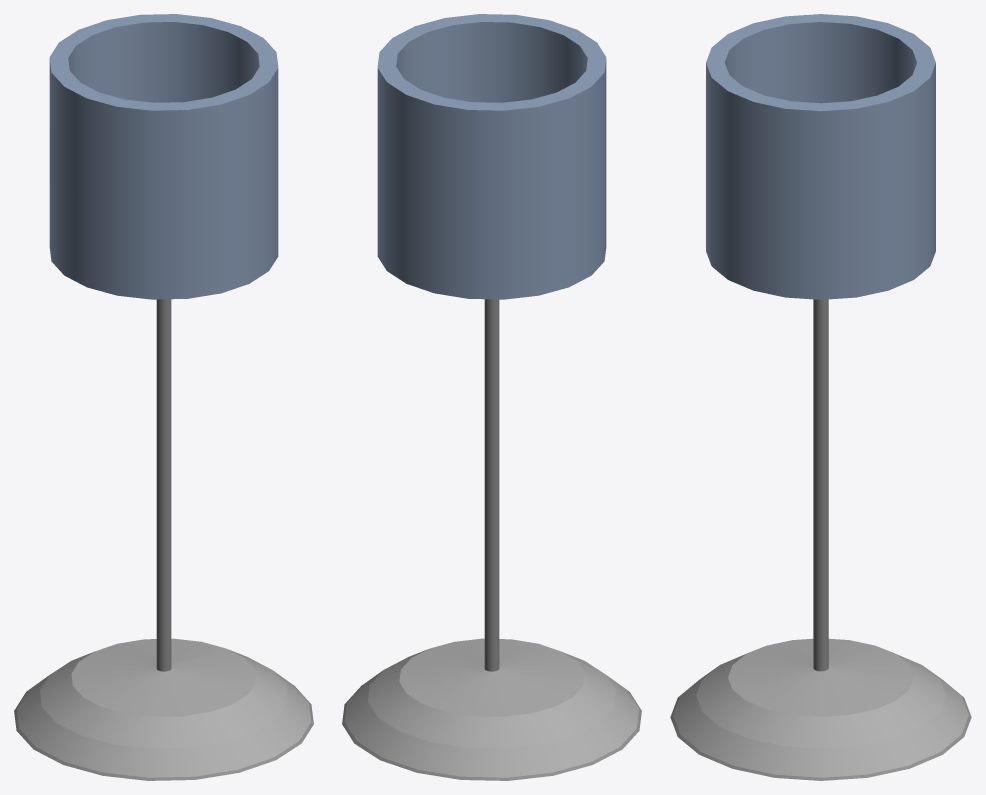
Rendered from MM_Lampara.fbx.
3 renders of one model, left to right at view 1: azimuth 30°, elevation 25°; view 2: azimuth 150°, elevation 25°; view 3: azimuth 270°, elevation 25°, orthographic.
Parts seen in each view (by area): view 1: pCylinderShape4; view 2: pCylinderShape4; view 3: pCylinderShape4.
Part boxes in pixels (bbox=[...]): pCylinderShape4: bbox=[14, 14, 313, 780]; pCylinderShape4: bbox=[342, 14, 641, 780]; pCylinderShape4: bbox=[670, 14, 971, 780].
Size of the model in its own units: 8.19 by 19.63 by 8.19.
